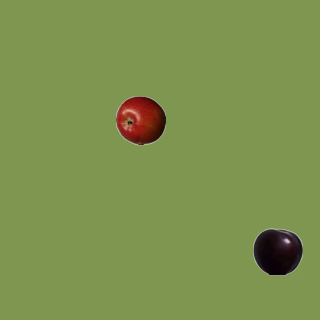Apple Braeburn: (115, 95, 165, 145)
Cherry Wax Black: (252, 226, 302, 276)
